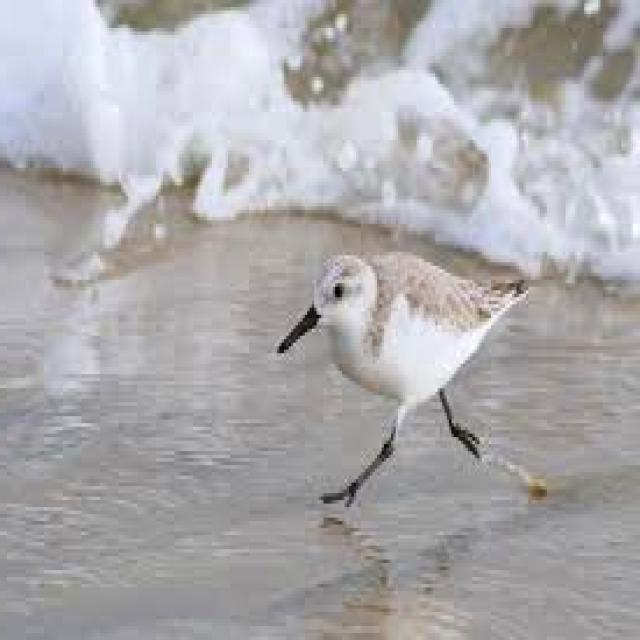sandpiper: (279, 252, 545, 504)
